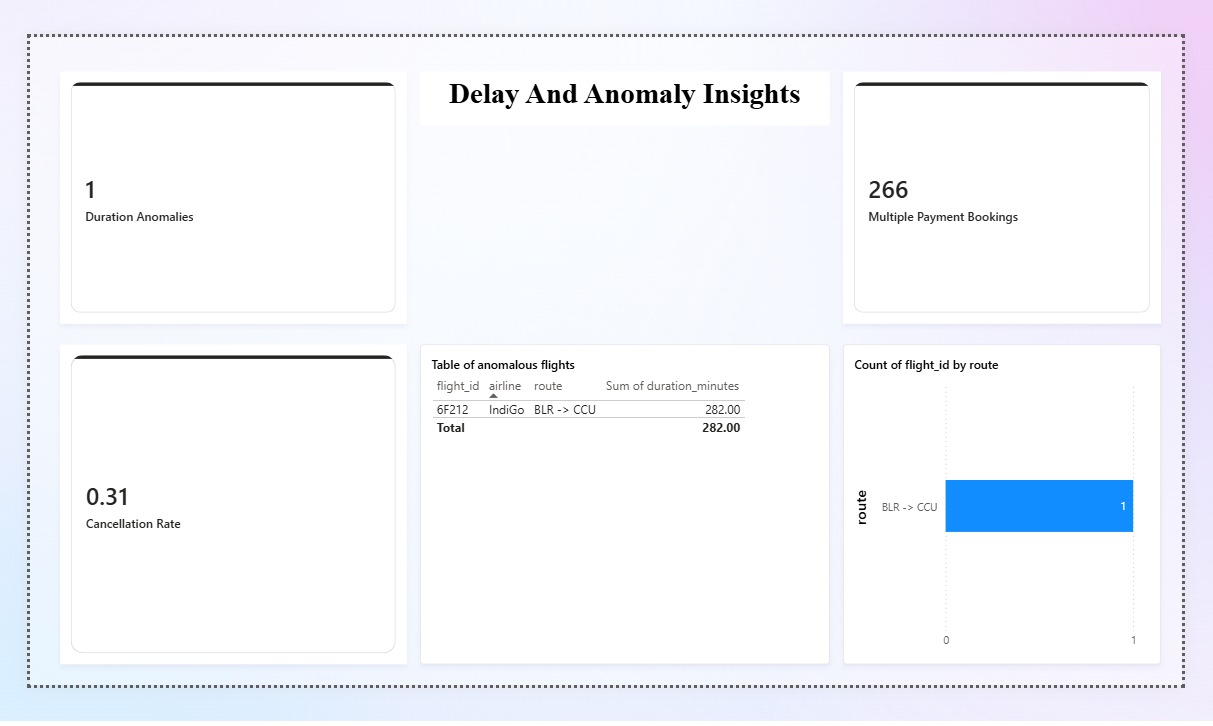

What the dashboard file says about the page in this screenshot:
{"tool":"powerbi","page":{"name":"Delay and Anomaly insights","canvas":[1280,720],"ordinal":3},"visuals":[{"type":"cardVisual","fields":{"Data":["gold_flat_table.Duration Anomalies"]},"box":[33.3,38.3,385,280],"z":0},{"type":"cardVisual","fields":{"Data":["gold_flat_table.Multiple Payment Bookings"]},"box":[903.3,38.3,353.3,280],"z":1},{"type":"cardVisual","fields":{"Data":["gold_flat_table.Cancellation Rate"]},"box":[33.3,341.7,385,355],"z":2},{"type":"tableEx","title":"Table of anomalous flights","fields":{"Values":["gold_flat_table.flight_id","gold_flat_table.airline","gold_flat_table.route","Sum(gold_flat_table.duration_minutes)"]},"box":[433.3,341.7,455,355],"z":3},{"type":"clusteredBarChart","fields":{"Category":["gold_flat_table.route"],"Y":["CountNonNull(gold_flat_table.flight_id)"]},"box":[903.3,341.7,353.3,355],"z":4},{"type":"textbox","box":[433.3,38.3,455,60],"z":5}]}

Visuals, with their boxes on the page's 1280x720 design canvas (x1, y1, x2, y2). These are canvas units, not pixel positions in the 1213x726 screenshot, which may show the page scaled, cropped or inside an application window:
cardVisual - gold_flat_table.Duration Anomalies: 33,38,418,318
cardVisual - gold_flat_table.Multiple Payment Bookings: 903,38,1257,318
cardVisual - gold_flat_table.Cancellation Rate: 33,342,418,697
"Table of anomalous flights" tableEx: 433,342,888,697
clusteredBarChart - gold_flat_table.route x CountNonNull(gold_flat_table.flight_id): 903,342,1257,697
textbox: 433,38,888,98
